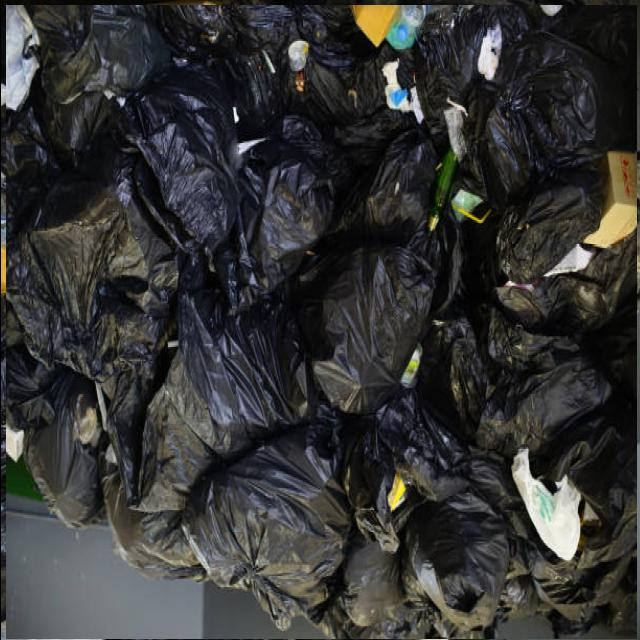garbage: (3, 6, 638, 640)
